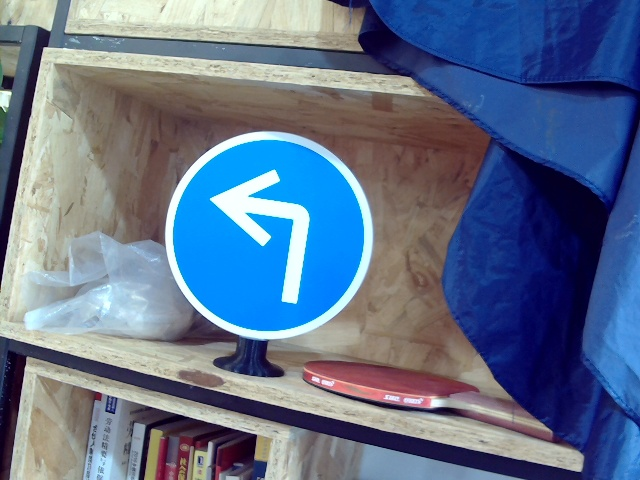turn_left: (210, 163, 311, 306)
